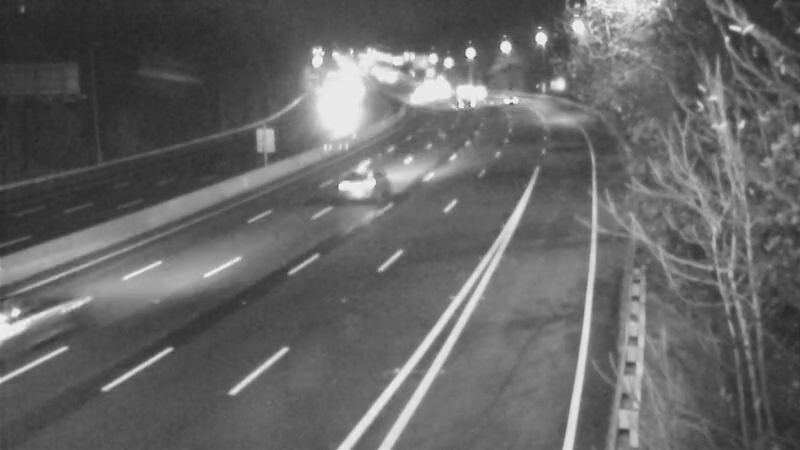vehicle: (318, 137, 398, 217), (450, 63, 500, 113), (485, 72, 535, 122), (437, 80, 487, 130)
